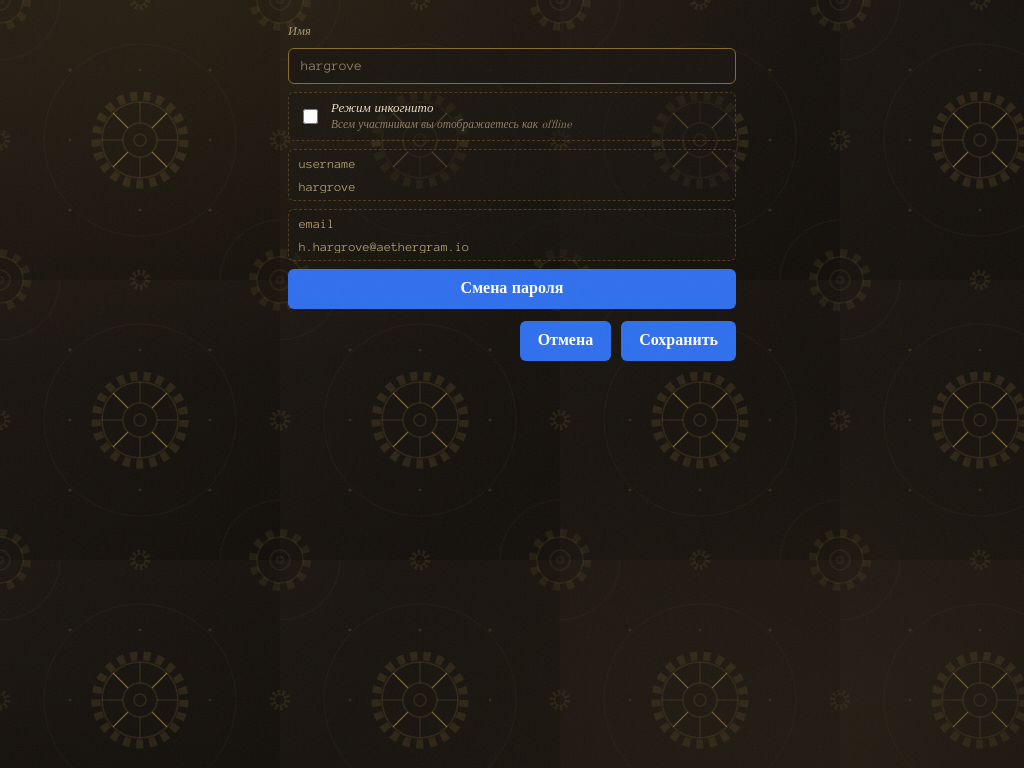
Test: ProfileModal › №39 failure: modal error, no №38, no toast, no close
This screenshot has width=1024, height=768.
Expected: the text "hargrove" is shown, [299, 180, 356, 193]
Step 1. Click the button "Сохранить" → (679,341), box [621, 321, 736, 361]
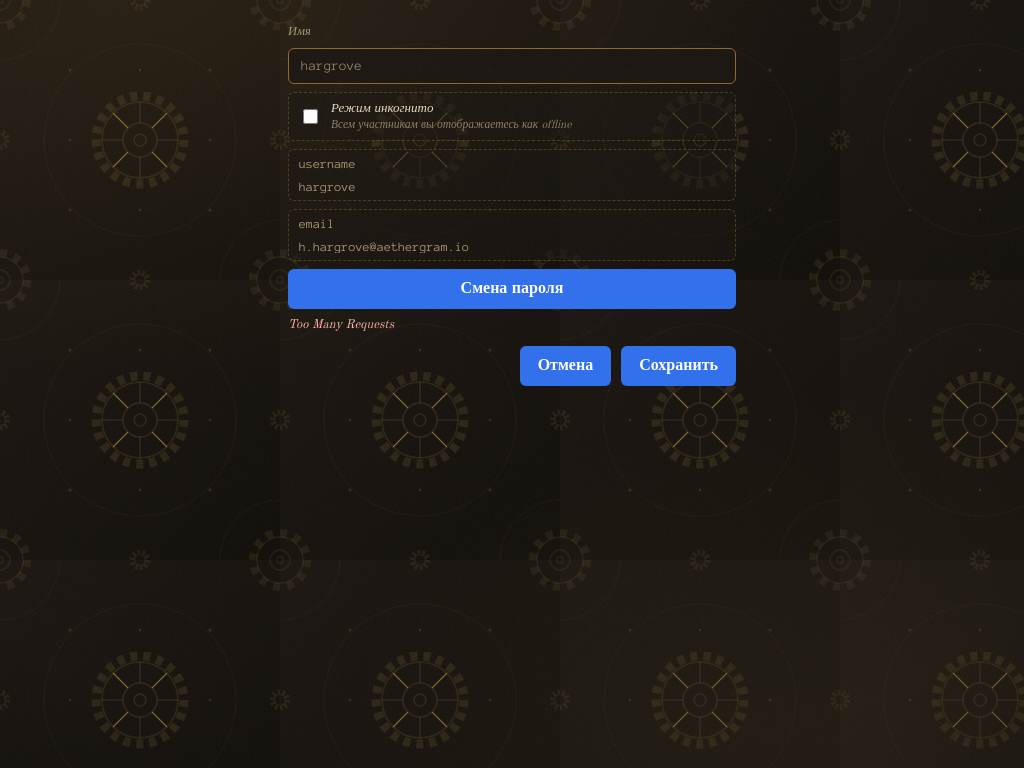
Result: the text "Too Many Requests" is shown at [288, 318, 394, 331]
